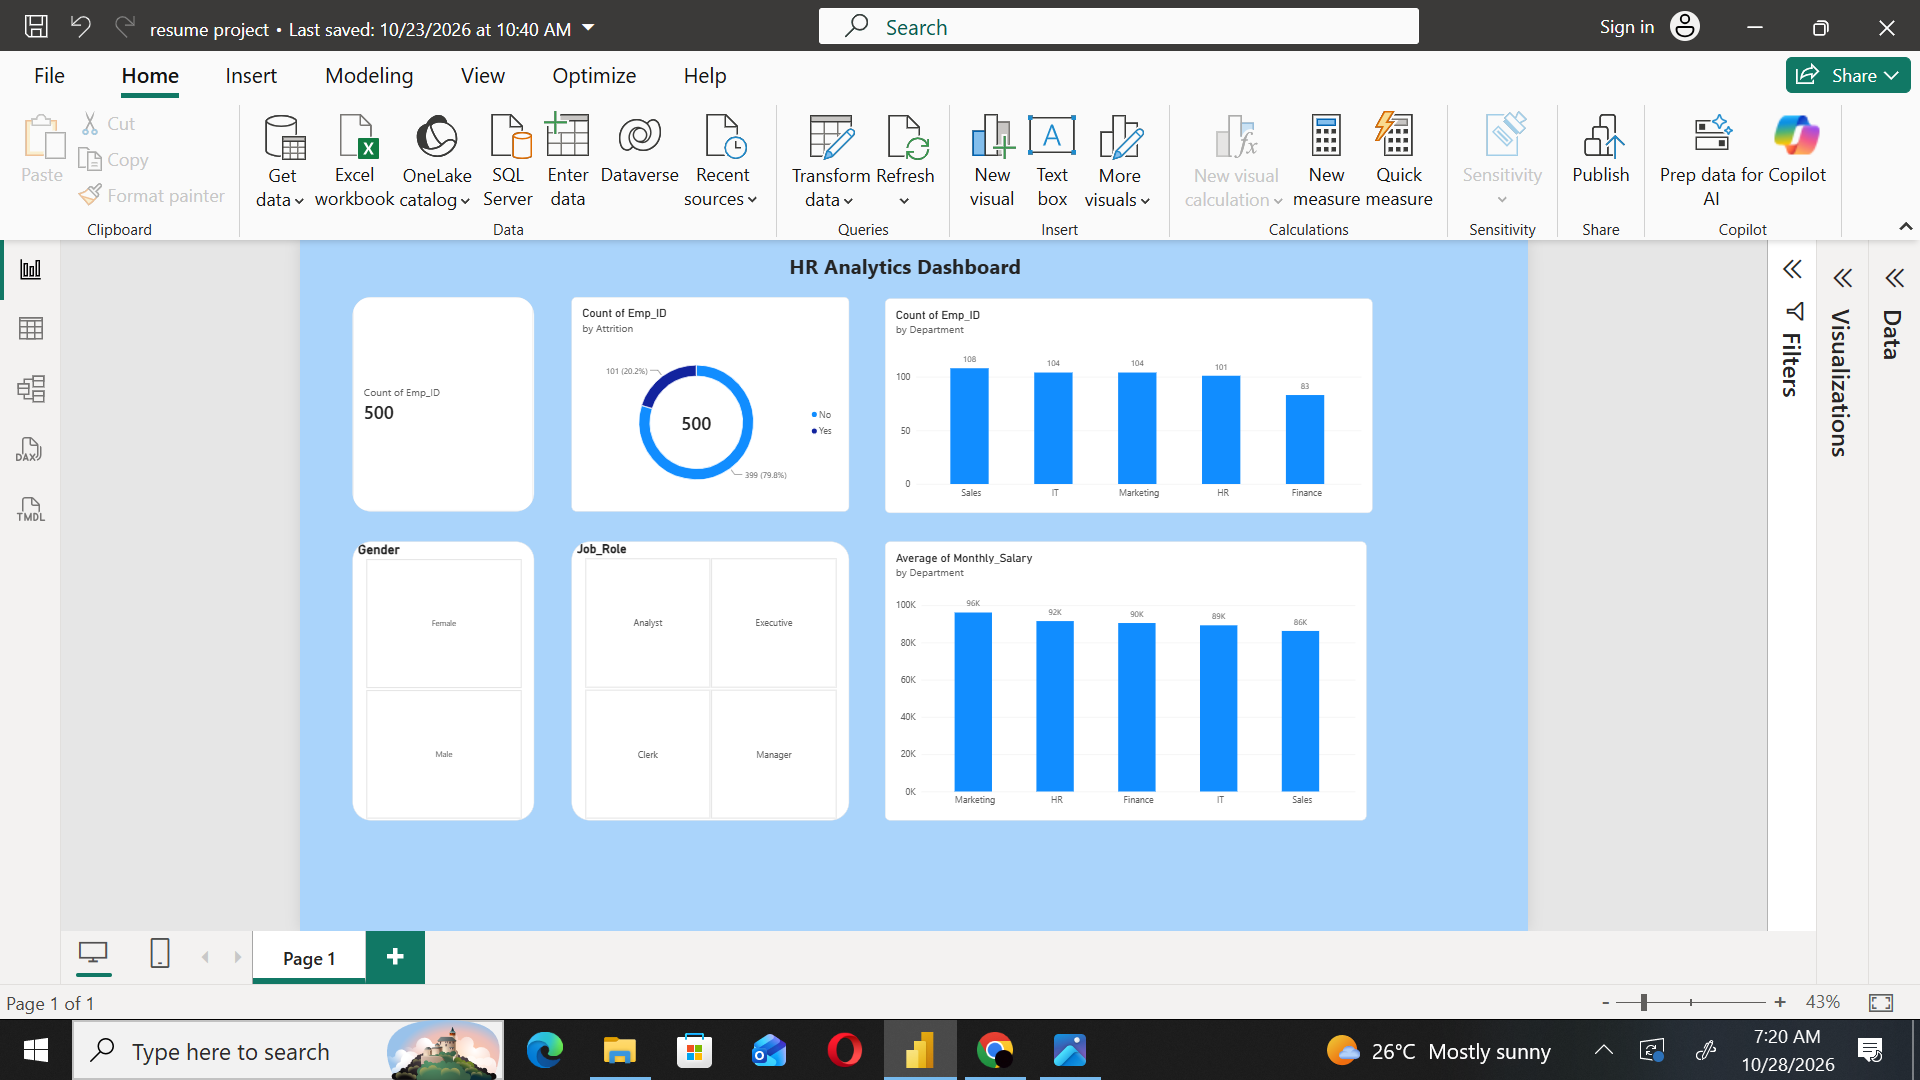

What the dashboard file says about the page in this screenshot:
{"tool":"powerbi","page":{"name":"Page 1","canvas":[1920,1080],"ordinal":0},"visuals":[{"type":"cardVisual","fields":{"Data":["CountNonNull(HR_Raw_Data.Emp_ID)"]},"box":[82.1,89.1,283.7,335.3],"z":0},{"type":"donutChart","fields":{"Category":["HR_Raw_Data.Attrition"],"Y":["CountNonNull(HR_Raw_Data.Emp_ID)"]},"box":[424.4,89.1,433.7,335.3],"z":1000},{"type":"clusteredColumnChart","fields":{"Category":["HR_Raw_Data.Department"],"Y":["CountNonNull(HR_Raw_Data.Emp_ID)"]},"box":[914.3,91.4,762,335.3],"z":2000},{"type":"slicer","fields":{"Values":["HR_Raw_Data.Gender"]},"box":[82.1,471.2,283.7,436.1],"z":3000},{"type":"slicer","fields":{"Values":["HR_Raw_Data.Job_Role"]},"box":[424.4,471.2,433.7,436.1],"z":4000},{"type":"columnChart","fields":{"Category":["HR_Raw_Data.Department"],"Y":["Avg(HR_Raw_Data.Monthly_Salary)"]},"box":[914.3,471.2,752.6,436.1],"z":5000},{"type":"textbox","box":[642.4,18.8,607.2,70.3],"z":6000}]}

Visuals, with their boxes on the page's 1920x1080 design canvas (x1, y1, x2, y2). These are canvas units, not pixel positions in the 1920x1080 screenshot, which may show the page scaled, cropped or inside an application window:
cardVisual - CountNonNull(HR_Raw_Data.Emp_ID): region(82, 89, 366, 424)
donutChart - HR_Raw_Data.Attrition x CountNonNull(HR_Raw_Data.Emp_ID): region(424, 89, 858, 424)
clusteredColumnChart - HR_Raw_Data.Department x CountNonNull(HR_Raw_Data.Emp_ID): region(914, 91, 1676, 427)
slicer - HR_Raw_Data.Gender: region(82, 471, 366, 907)
slicer - HR_Raw_Data.Job_Role: region(424, 471, 858, 907)
columnChart - HR_Raw_Data.Department x Avg(HR_Raw_Data.Monthly_Salary): region(914, 471, 1667, 907)
textbox: region(642, 19, 1250, 89)
